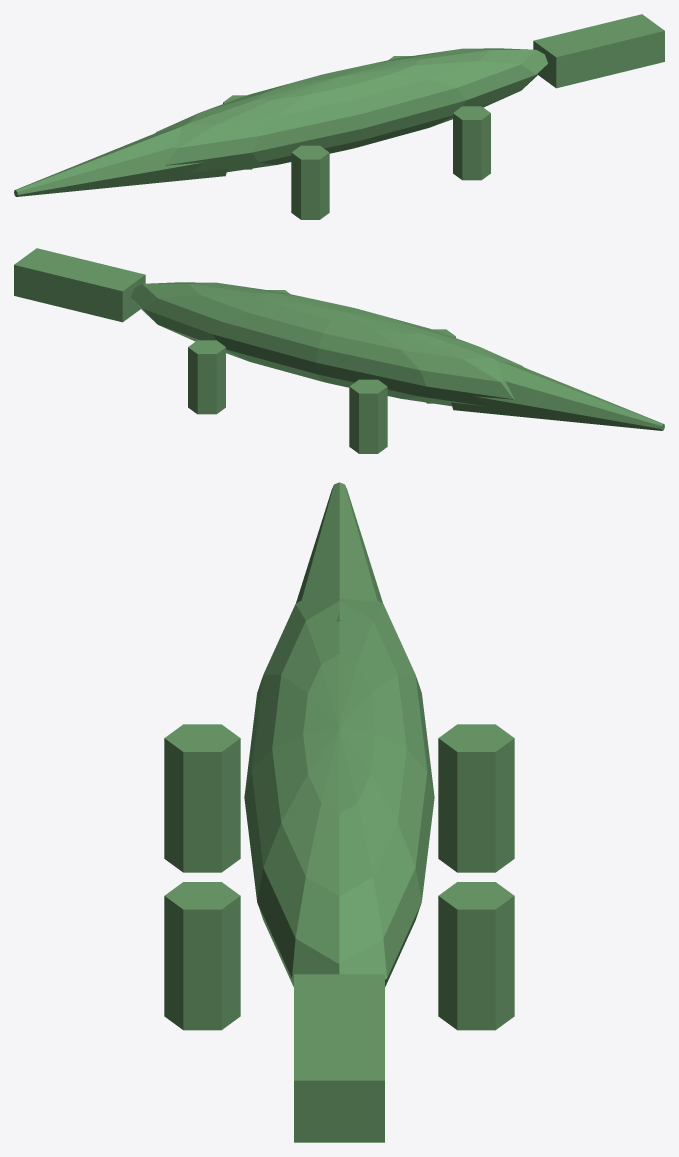
The model's file is croc.dae.
The picture shows the model from 3 angles, top to bottom: view 1: azimuth 30°, elevation 25°; view 2: azimuth 150°, elevation 25°; view 3: azimuth 270°, elevation 25°; orthographic projection. The views are drawn at different scales.
Parts seen in each view (by area): view 1: Sphere, Cube, Cone, Cylinder.003, Cylinder.001; view 2: Sphere, Cube, Cone, Cylinder.002, Cylinder; view 3: Sphere, Cube, Cylinder.001, Cylinder, Cylinder.003, Cylinder.002, Cone.
Boxes of the visible parts, x1,y1,x2,y2 form: Sphere: (156,48,547,172); Cube: (533,14,664,88); Cone: (14,114,227,196); Cylinder.003: (291,145,329,219); Cylinder.001: (453,106,490,180); Sphere: (131,282,522,406); Cube: (14,248,145,322); Cone: (451,348,664,430); Cylinder.002: (349,379,387,453); Cylinder: (188,340,225,414); Sphere: (244,598,434,986); Cube: (294,974,384,1142); Cylinder.001: (164,882,240,1030); Cylinder: (438,882,514,1030); Cylinder.003: (164,724,240,872); Cylinder.002: (438,724,514,872); Cone: (296,482,382,621).
Bounding box in the file's own units: 387 × 92 × 55.5.
